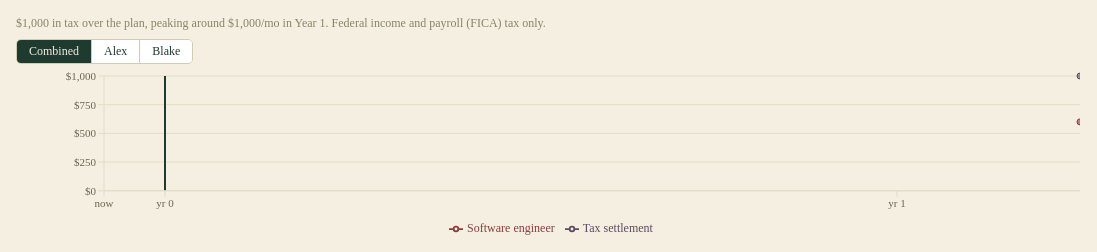
Test: TaxChart — whose April settlement › adds the two people's totals back up to the household's
Click the button "Alex".
click(115, 52)  # box [91, 40, 139, 63]
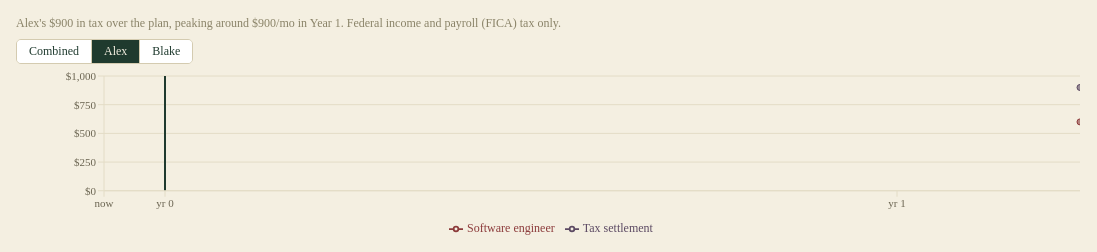
Click the button "Blake".
click(166, 52)  # box [139, 40, 192, 63]
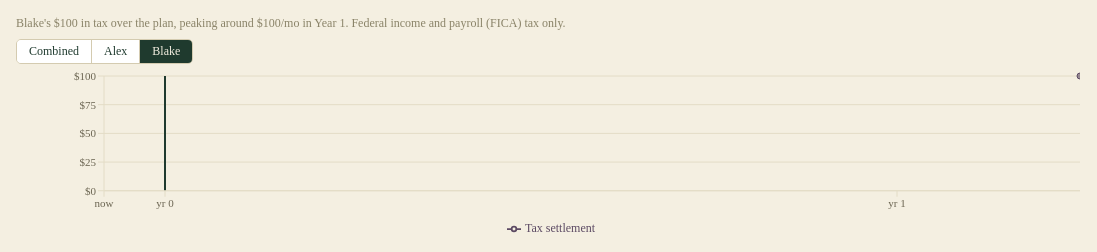
Click the button "Combined".
click(54, 52)  # box [17, 40, 91, 63]
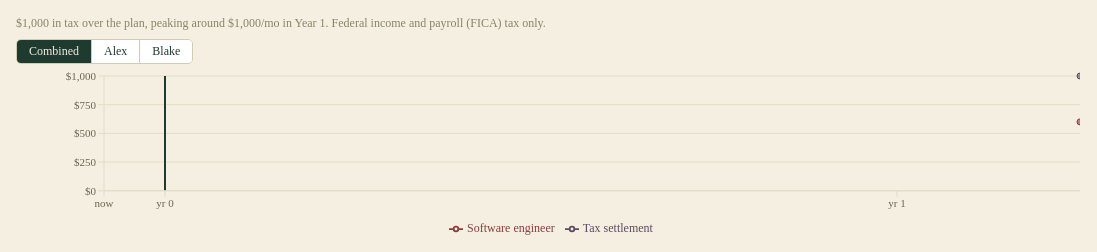
Result: the text with test id "tax-summary" shows "$1,000 in tax" at [16, 16, 546, 30]
